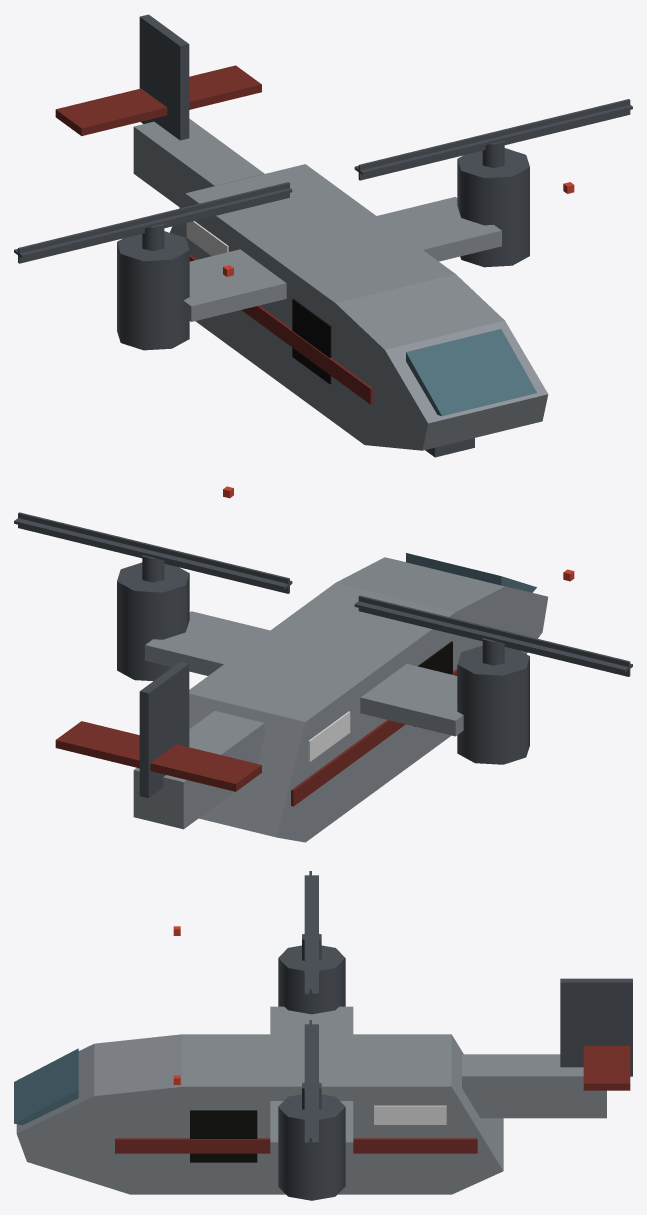
3 views of the same model, one above another, from view 1: azimuth 30°, elevation 25°; view 2: azimuth 150°, elevation 25°; view 3: azimuth 270°, elevation 25° (orthographic). The views are drawn at different scales.
Visible parts, largest first — view 1: garde_body_vertibird; view 2: garde_body_vertibird; view 3: garde_body_vertibird.
Part boxes in pixels (x1,y1,x2,y2): garde_body_vertibird: (14,14,632,457); garde_body_vertibird: (14,486,632,842); garde_body_vertibird: (14,871,632,1200).
Bounding box in the file's own units: 12.2 × 4 × 11.95.
